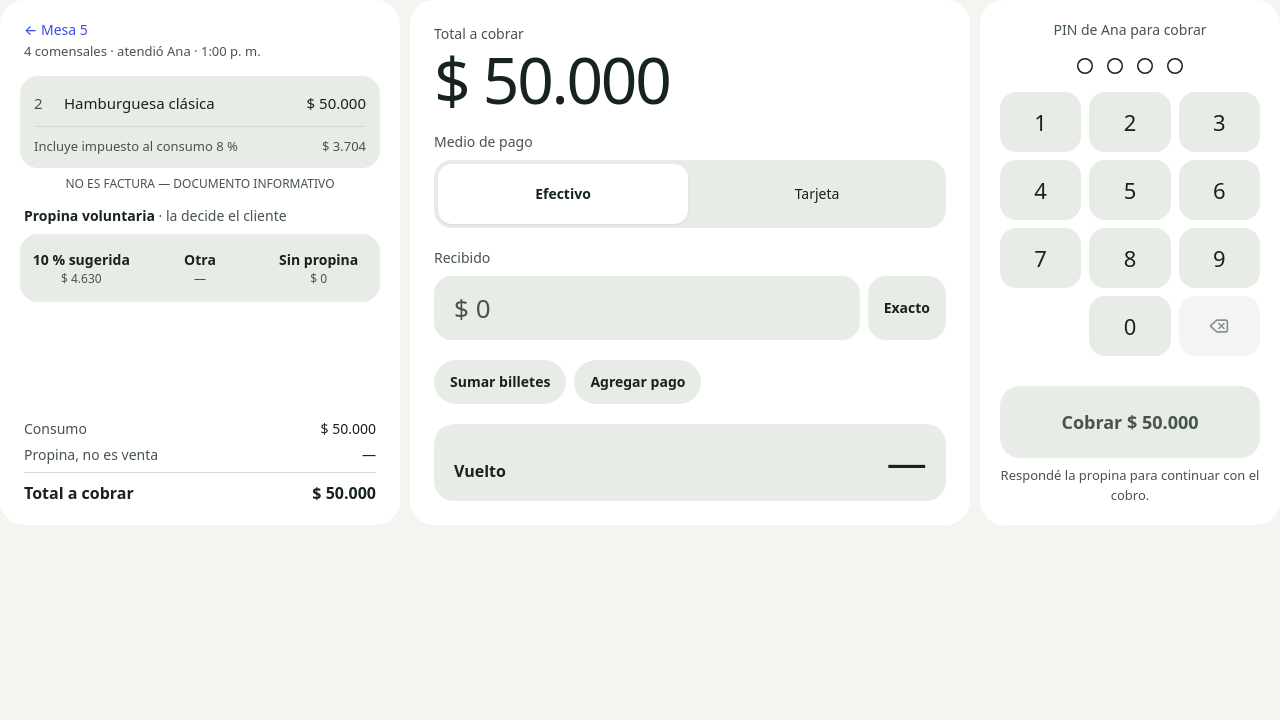
Test: CheckoutPage › con pos.pre_bill encendida presenta la cuenta, muestra la leyenda tal cual llega y pregunta la propina
This screenshot has width=1280, height=720.
Check: the text "NO ES FACTURA — documento informativo" is shown, box [66,175,335,192]
What coordinates should you click on to do the following:
click the button "10 % sugerida $ 4.630"
I would click on:
 (81, 268)
Its box is [24,238,139,298].
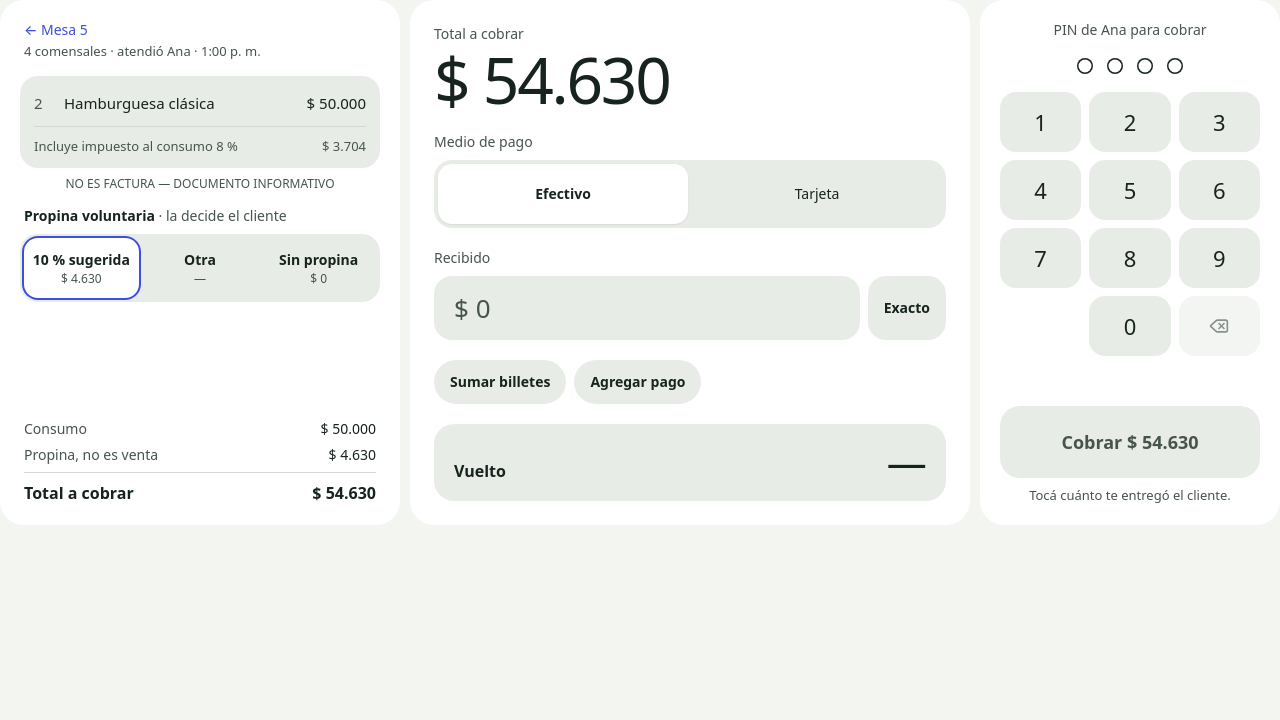
Check: the text "Consumo" is shown, box [24,419,87,439]
Check: the text "$ 54.630" below "Propina, no es venta" is shown, box [312,482,376,504]
